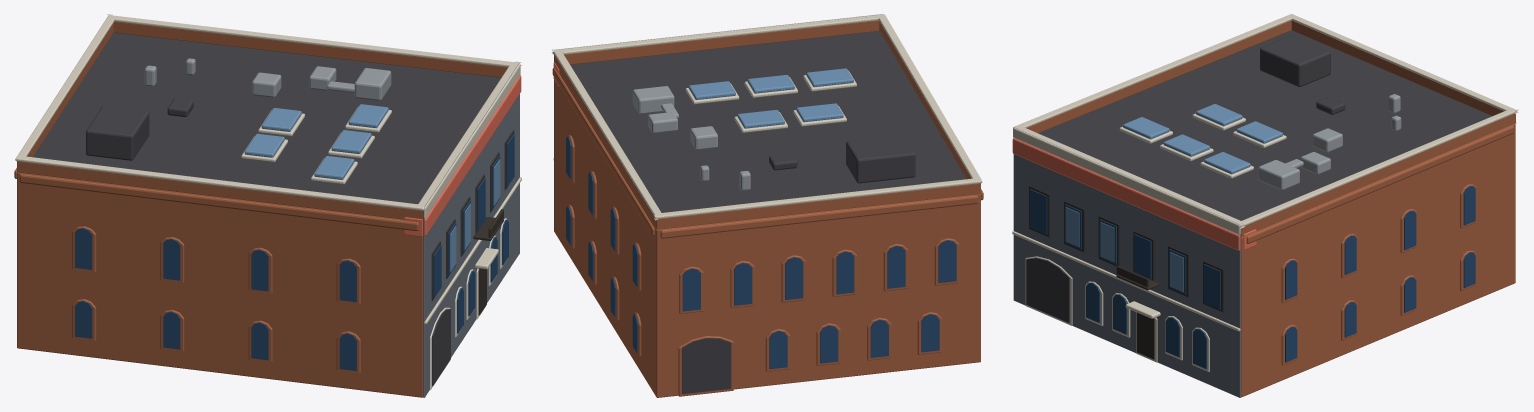
File: 380-brannan.glb
The picture shows the model from 3 angles, left to right: view 1: azimuth 30°, elevation 25°; view 2: azimuth 150°, elevation 25°; view 3: azimuth 270°, elevation 25°; orthographic projection. The views are drawn at different scales.
Parts seen in each view (by area): view 1: body, parapet, front_skin, coping, corbel_sw, penthouse, coral_band, front_cap, freight_fill, hvac_a, swwin0_fill, swwin1_fill (+16 smaller); view 2: body, parapet, coping, corbel_rear, penthouse, rolldoor_fill, corbel_ne, hvac_a, rwin0_fill, rwin3_fill, rwin4_fill, rwin5_fill (+24 smaller); view 3: body, front_skin, parapet, coping, coral_band, penthouse, front_cap, corbel_ne, freight_fill, hvac_a, string, fwin0_fill (+22 smaller).
Boxes of the visible parts, left/top/right/bottom form: body: left=17, top=32, right=500, bottom=397; parapet: left=17, top=21, right=507, bottom=221; front_skin: left=423, top=63, right=519, bottom=397; coping: left=15, top=14, right=521, bottom=210; corbel_sw: left=19, top=174, right=418, bottom=230; penthouse: left=86, top=105, right=149, bottom=160; coral_band: left=424, top=75, right=521, bottom=235; front_cap: left=424, top=63, right=520, bottom=218; freight_fill: left=432, top=309, right=450, bottom=385; hvac_a: left=354, top=68, right=391, bottom=100; swwin0_fill: left=75, top=228, right=92, bottom=269; swwin1_fill: left=163, top=239, right=180, bottom=280; body: left=554, top=31, right=980, bottom=397; parapet: left=554, top=20, right=980, bottom=230; coping: left=551, top=14, right=982, bottom=220; corbel_rear: left=660, top=195, right=978, bottom=238; penthouse: left=846, top=135, right=915, bottom=183; rolldoor_fill: left=682, top=338, right=731, bottom=394; corbel_ne: left=552, top=67, right=654, bottom=235; hvac_a: left=632, top=86, right=674, bottom=114; rwin0_fill: left=682, top=268, right=700, bottom=311; rwin3_fill: left=836, top=251, right=854, bottom=294; rwin4_fill: left=887, top=246, right=905, bottom=288; rwin5_fill: left=938, top=240, right=956, bottom=282; body: left=1038, top=30, right=1515, bottom=397; front_skin: left=1013, top=127, right=1240, bottom=397; parapet: left=1026, top=20, right=1516, bottom=237; coping: left=1013, top=14, right=1518, bottom=228; coral_band: left=1012, top=138, right=1240, bottom=250; penthouse: left=1260, top=35, right=1330, bottom=87; front_cap: left=1013, top=127, right=1240, bottom=234; corbel_ne: left=1246, top=125, right=1514, bottom=243; freight_fill: left=1026, top=258, right=1069, bottom=322; hvac_a: left=1258, top=160, right=1299, bottom=190; string: left=1012, top=231, right=1240, bottom=331; fwin0_fill: left=1029, top=189, right=1047, bottom=234.
Bounding box in the file's own units: 31.31 × 12.6 × 31.59.
